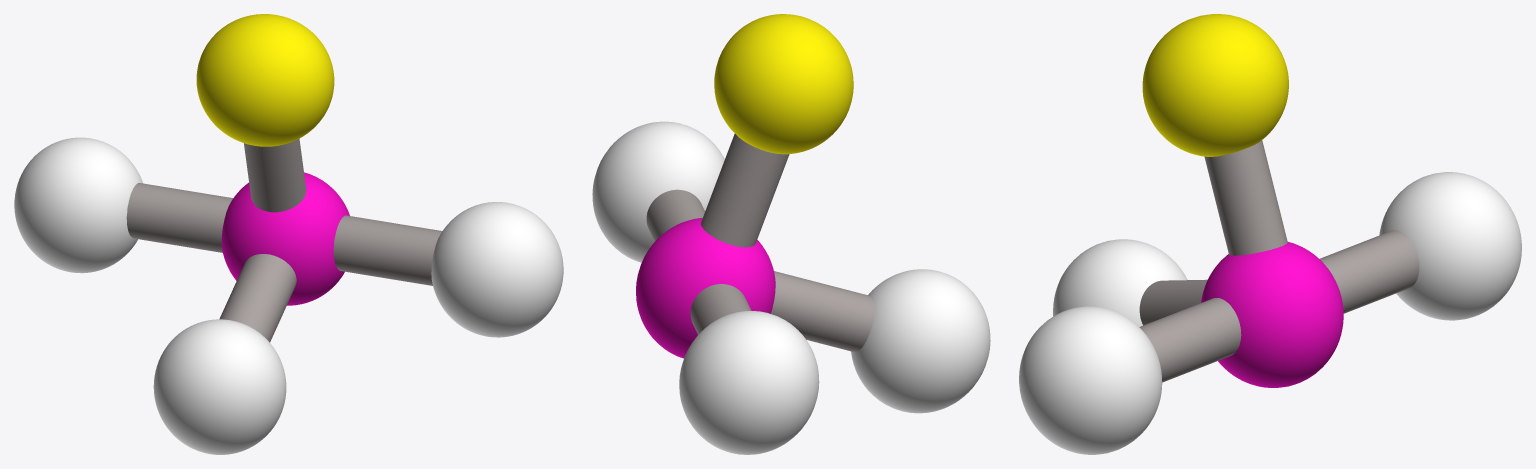
Rendered from seesawbond.fbx.
The picture shows the model from 3 angles, left to right: view 1: azimuth 30°, elevation 25°; view 2: azimuth 150°, elevation 25°; view 3: azimuth 270°, elevation 25°; orthographic projection. The views are drawn at different scales.
Visible parts, largest first — view 1: root (×11); view 2: root (×11); view 3: root (×11).
Part boxes in pixels (x1,y1,x2,y2): root (×11): (14, 14, 563, 454); root (×11): (592, 14, 990, 454); root (×11): (1019, 14, 1521, 454).
Bounding box in the file's own units: 0.5033 × 0.4814 × 0.5404.
Materials: 6 (6 with a texture image).
